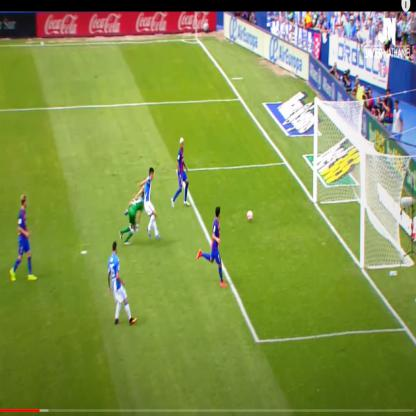goal: (244, 93, 391, 280)
